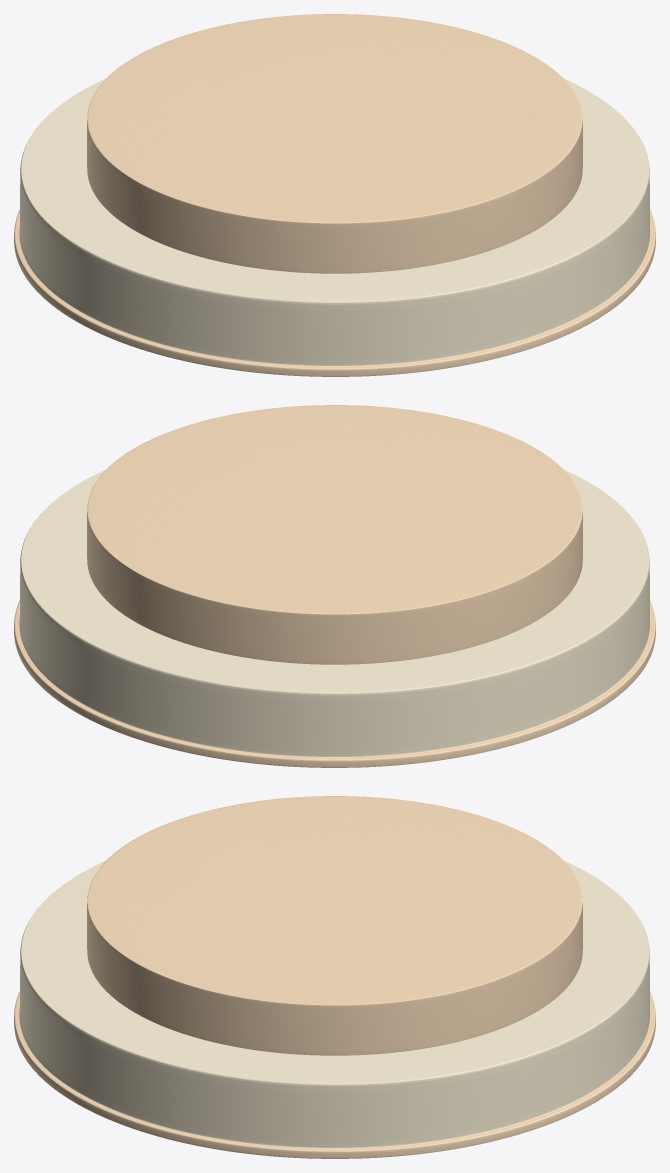
File: podium.glb
The picture shows the model from 3 angles, top to bottom: view 1: azimuth 30°, elevation 25°; view 2: azimuth 150°, elevation 25°; view 3: azimuth 270°, elevation 25°; orthographic projection.
Visible parts, largest first — view 1: pallet, pallet.001; view 2: pallet, pallet.001; view 3: pallet, pallet.001.
Part boxes in pixels (x1,y1,x2,y2): pallet: (87,14,582,273); pallet.001: (14,78,655,376); pallet: (87,405,582,664); pallet.001: (14,469,655,767); pallet: (87,796,582,1055); pallet.001: (14,860,655,1158).
Bounding box in the file's own units: 4.08 × 0.869 × 4.08.
